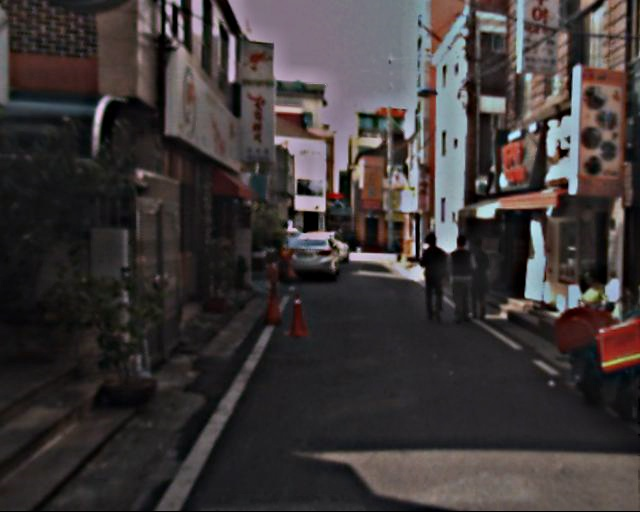person: (421, 232, 459, 324), (448, 235, 485, 325), (466, 233, 501, 318)
